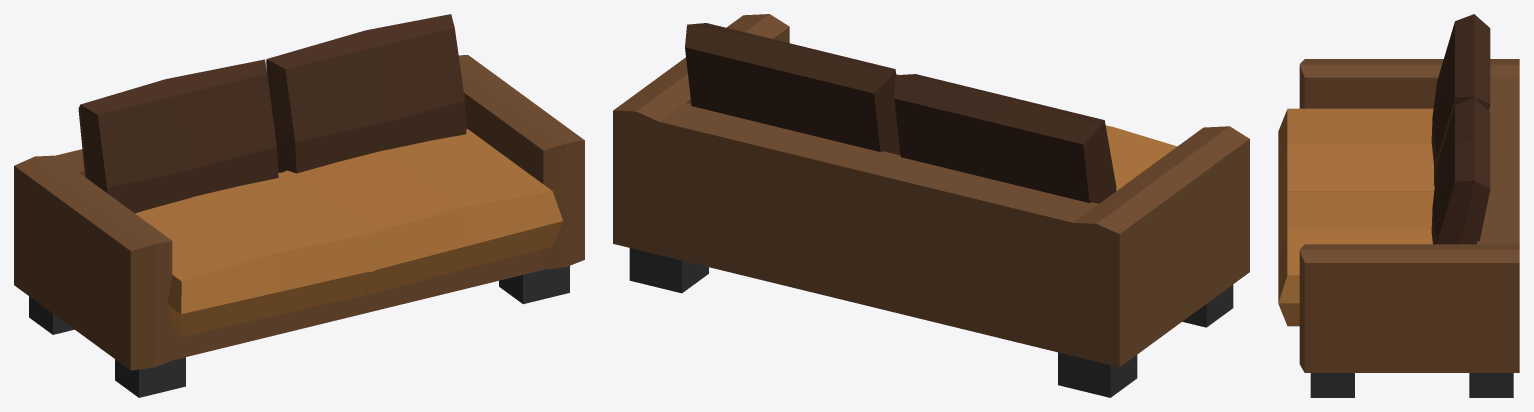
Rendered from Prop_Sofa_02_D.fbx.
The picture shows the model from 3 angles, left to right: view 1: azimuth 30°, elevation 25°; view 2: azimuth 150°, elevation 25°; view 3: azimuth 270°, elevation 25°; orthographic projection. The views are drawn at different scales.
Visible parts, largest first — view 1: Prop_Sofa_02_D; view 2: Prop_Sofa_02_D; view 3: Prop_Sofa_02_D.
Boxes of the visible parts, <box> form: Prop_Sofa_02_D: <box>14,14,584,397</box>; Prop_Sofa_02_D: <box>613,14,1249,397</box>; Prop_Sofa_02_D: <box>1278,14,1519,397</box>.
Size of the model in its own units: 200 by 95 by 100.
